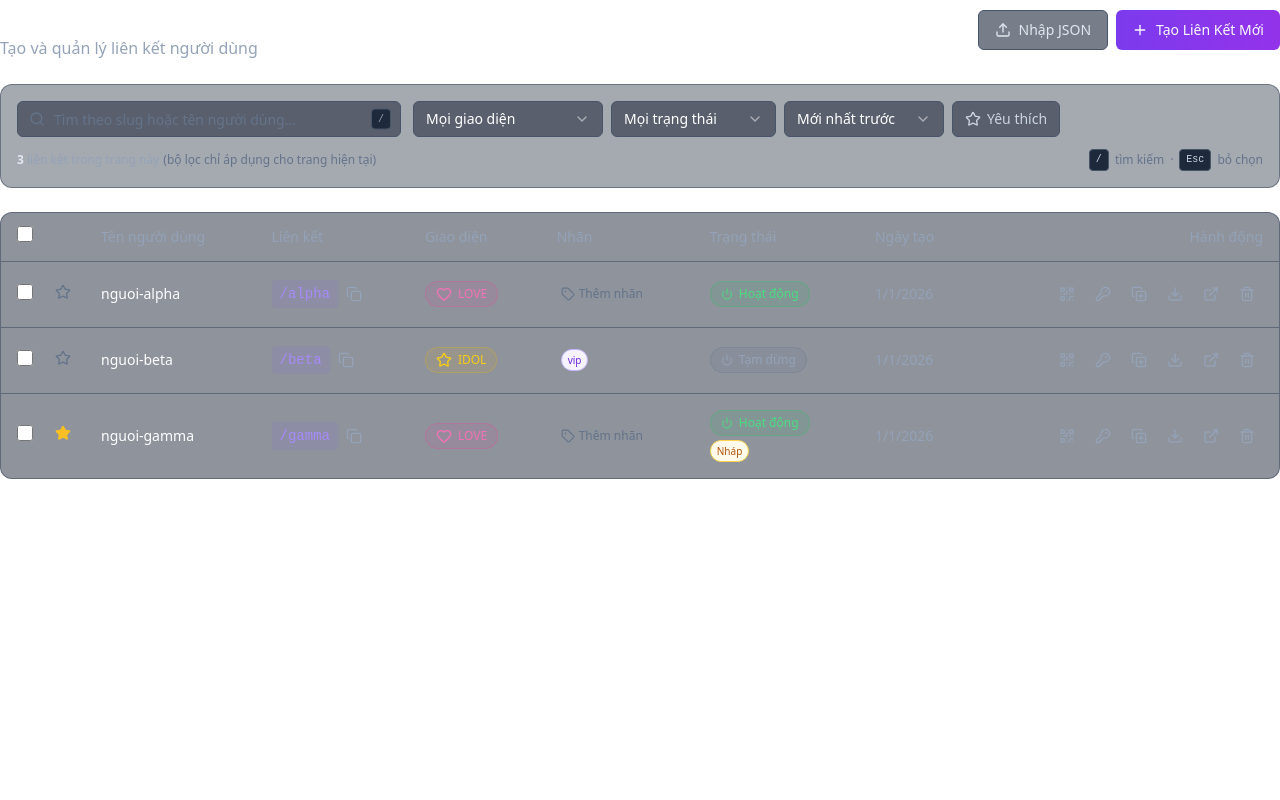
LinksTable — nhân bản › hiện slug + PIN kèm cảnh báo sau khi nhân bản
Click the button named "Nhân bản liên kết" in the row of "nguoi-alpha".
click(1139, 294)  # box [1123,278,1155,310]
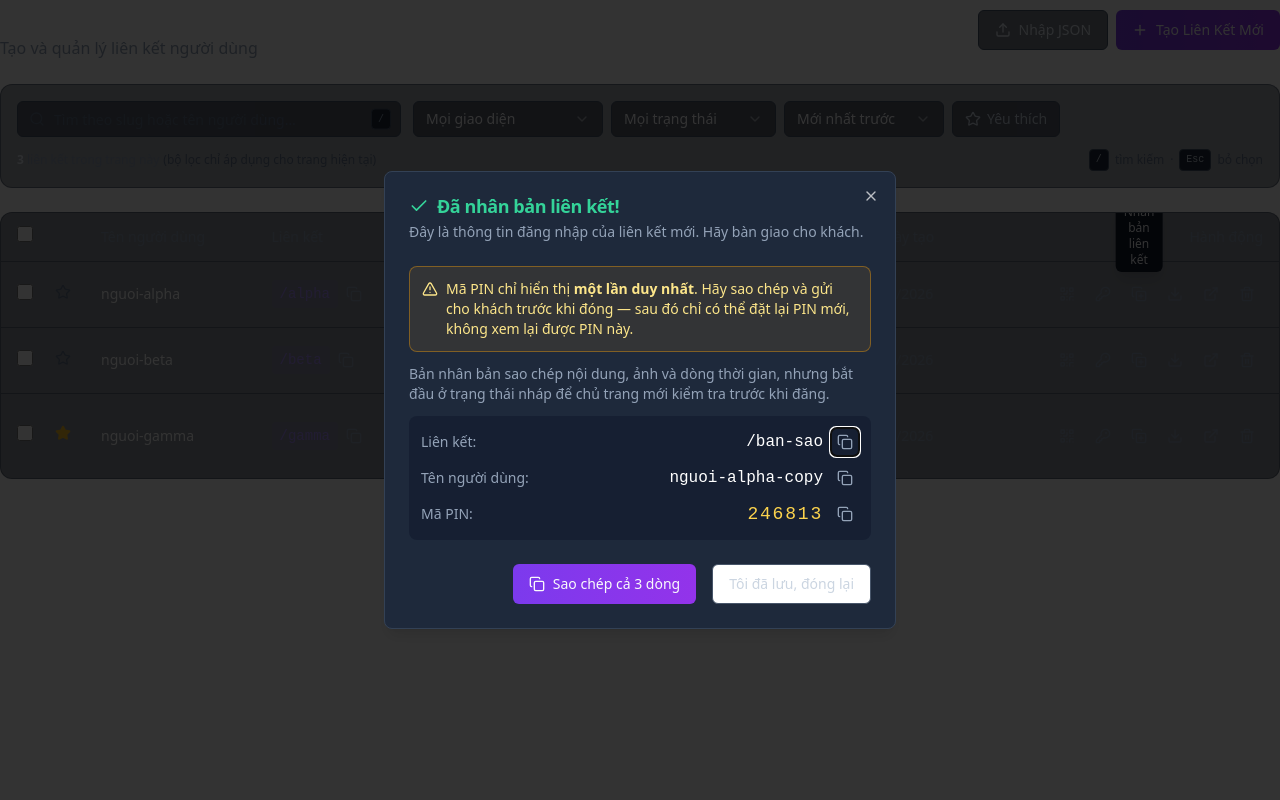
Expected: the heading "Đã nhân bản liên kết!" is shown, [409,194,619,218]
Expected: the text "246813" is shown, [747,500,823,528]
Expected: the text "một lần duy nhất" is shown, [574,279,694,298]
